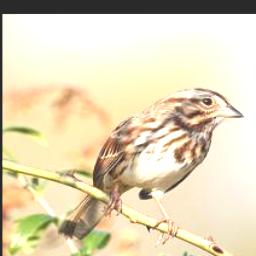Sparrow: (56, 87, 244, 248)
